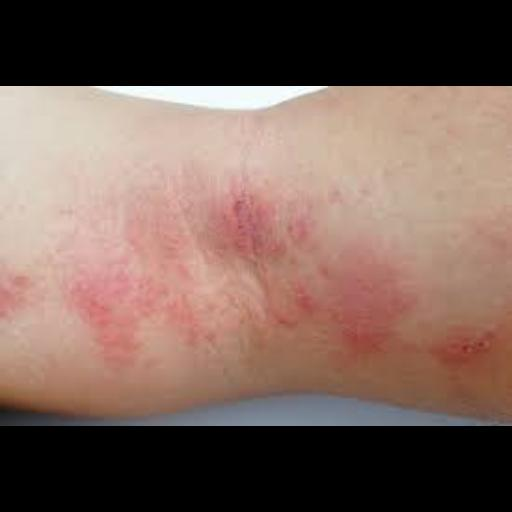Skin_Lesion: (195, 159, 369, 275), (66, 265, 156, 369), (435, 323, 499, 371), (348, 299, 380, 341), (140, 209, 174, 243), (293, 286, 319, 314), (0, 270, 12, 328), (172, 298, 192, 322)
